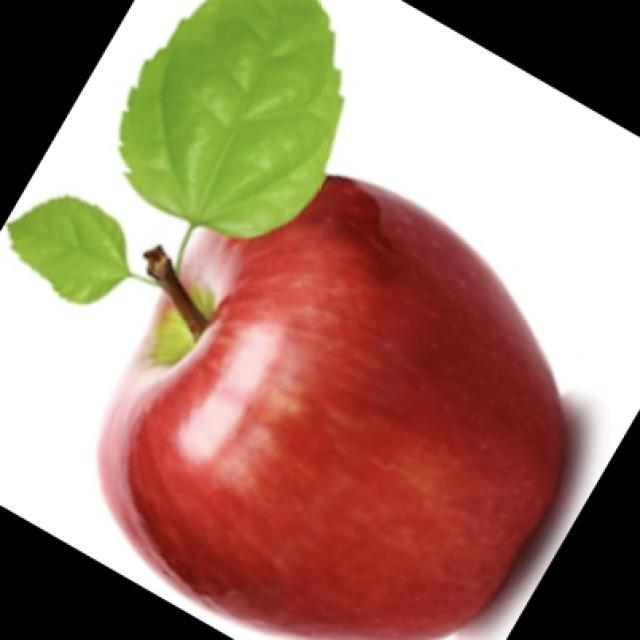Fresh Apple: (125, 158, 582, 637)
